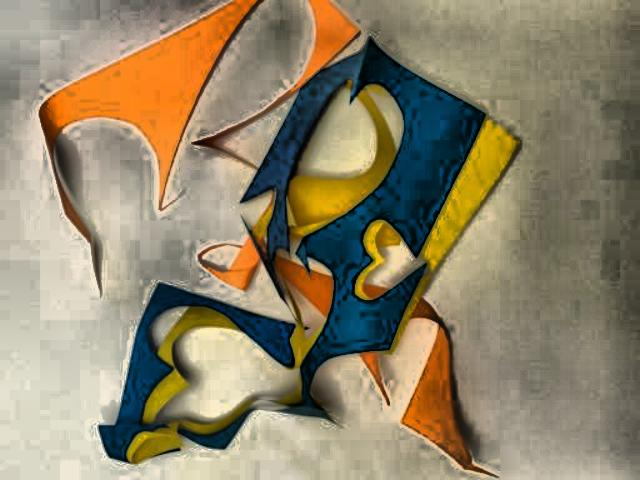Paper: (18, 0, 503, 480)
